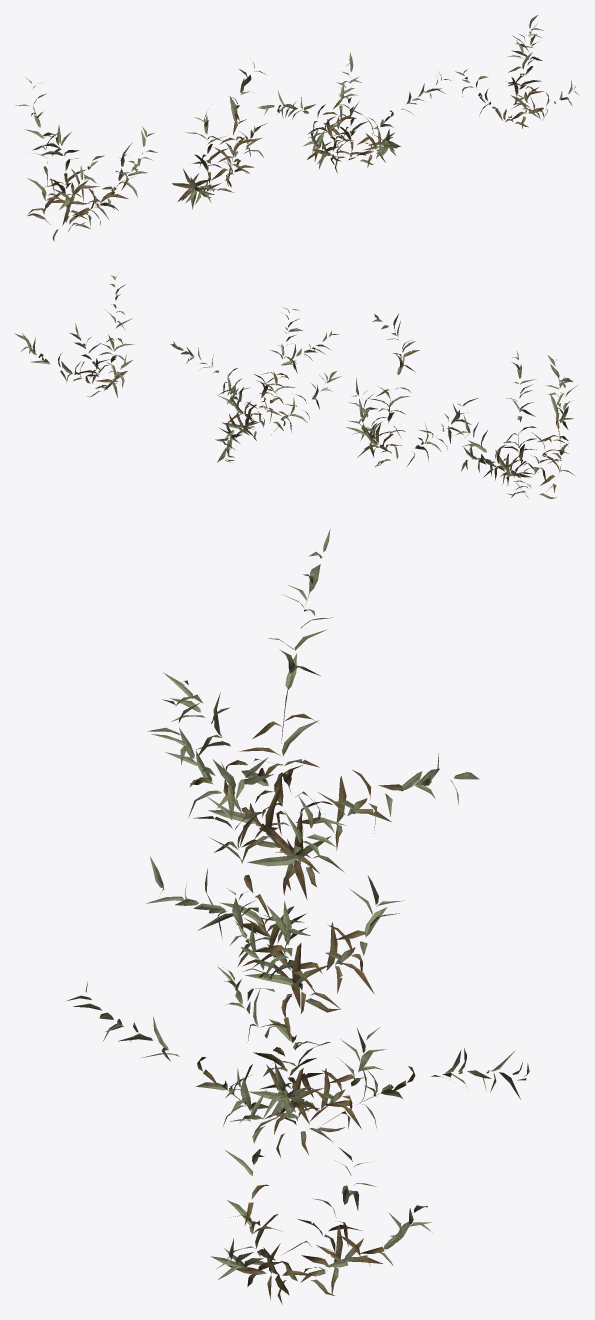
Rendered from shrub_02.glb.
The picture shows the model from 3 angles, top to bottom: view 1: azimuth 30°, elevation 25°; view 2: azimuth 150°, elevation 25°; view 3: azimuth 270°, elevation 25°; orthographic projection. The views are drawn at different scales.
Visible parts, largest first — view 1: shrub_02_a; view 2: shrub_02_a; view 3: shrub_02_a.
Boxes of the visible parts, x1,y1,x2,y2 form: shrub_02_a: (15,15,579,241); shrub_02_a: (14,275,578,498); shrub_02_a: (67,529,529,1304).
Size of the model in its own units: 6.05 by 1.7 by 2.28.
1 material, 1 textured.
